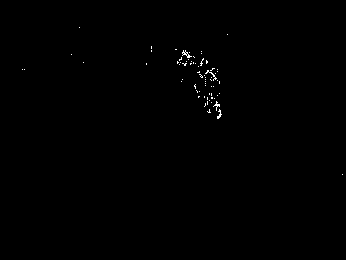person: (193, 60, 222, 121)
